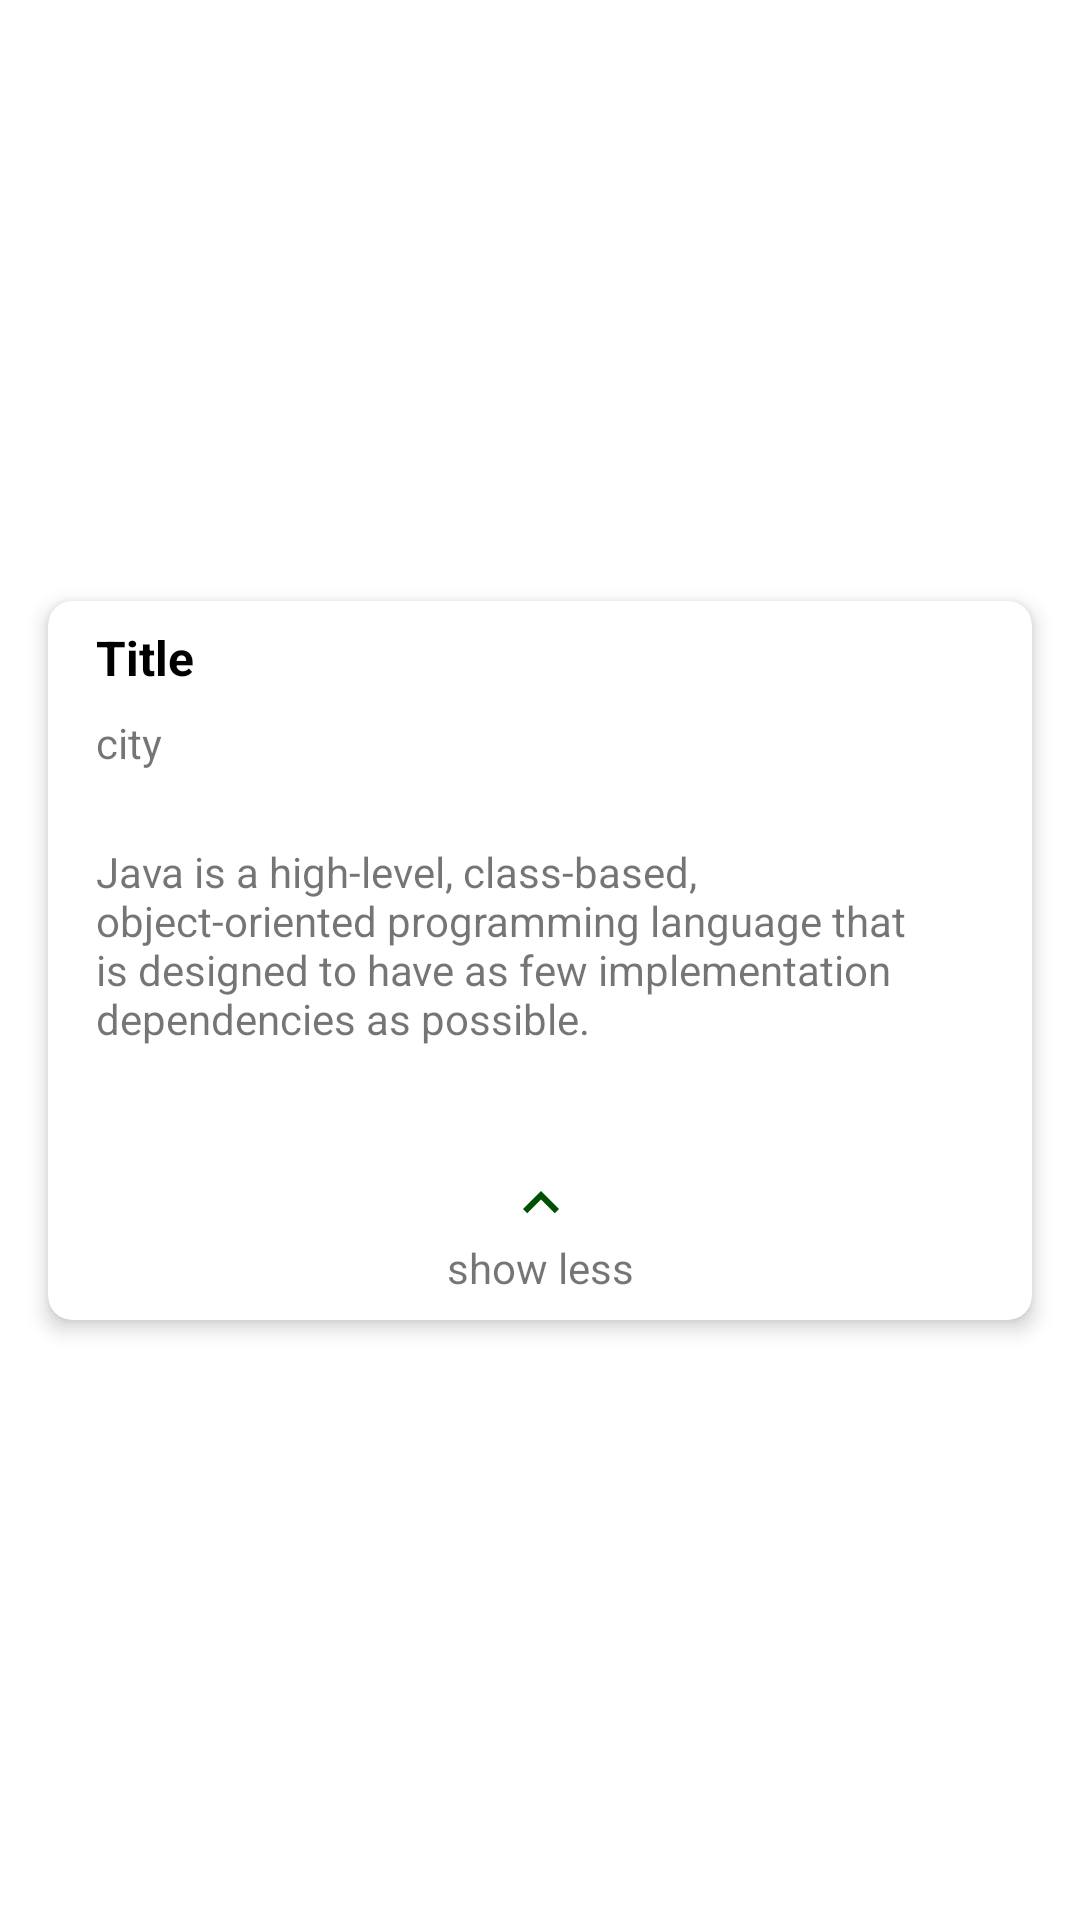

Icons on this 1080px×1920px Android screen, each with its box as (x1, y1, x2, y2):
keyboard arrow up: (523, 1191, 559, 1213)
